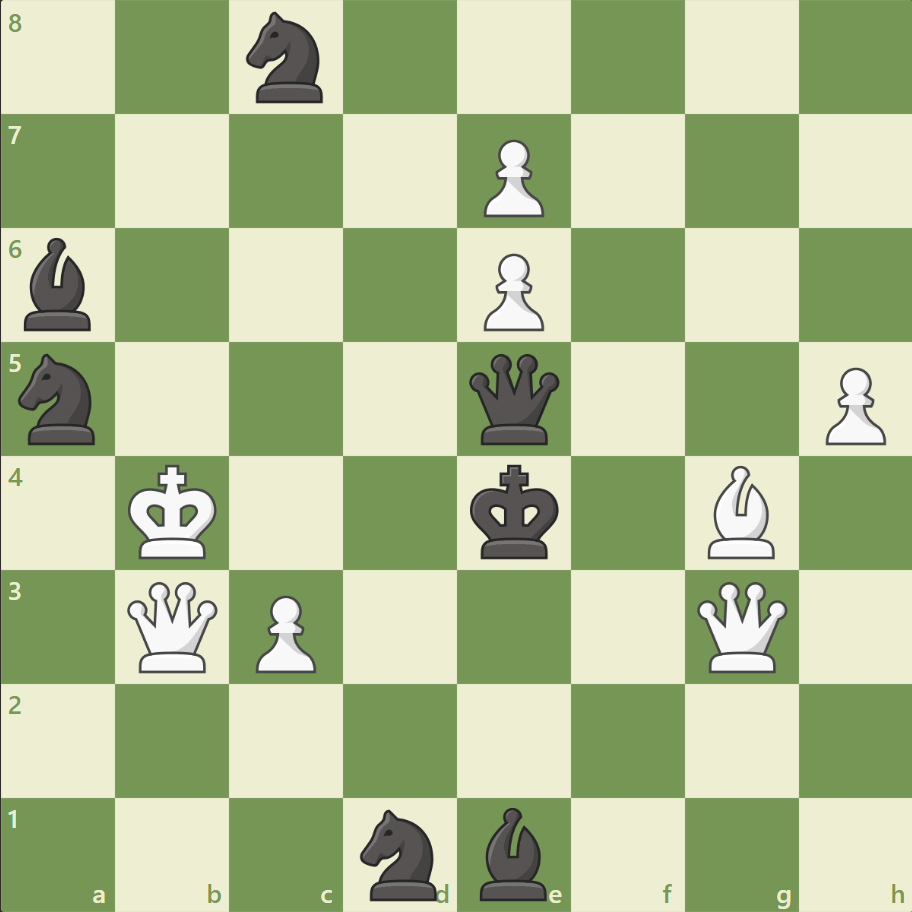B: (698, 460, 782, 563)
K: (124, 458, 224, 566)
P: (474, 132, 549, 223), (474, 246, 549, 337), (247, 586, 322, 677), (815, 359, 889, 450)
Q: (124, 576, 223, 676), (691, 576, 790, 676)
b: (17, 233, 101, 336), (471, 801, 555, 904)
k: (465, 458, 565, 566)
n: (351, 802, 449, 904), (238, 7, 335, 110), (11, 348, 108, 450)
q: (464, 349, 563, 449)
